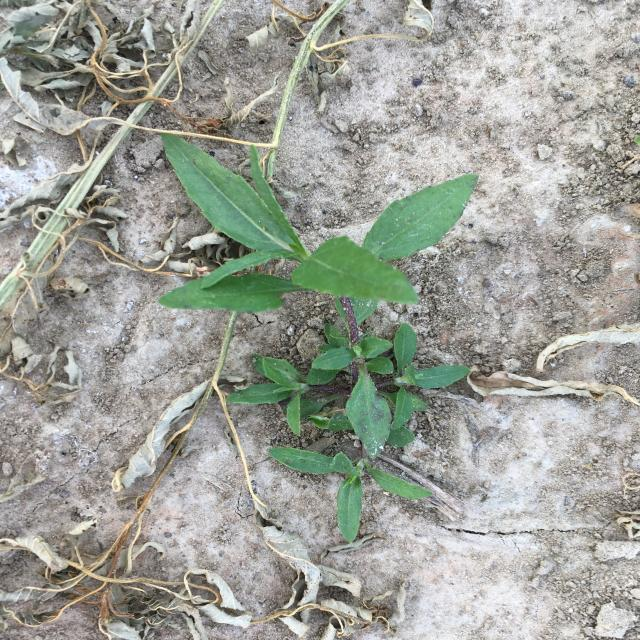Eclipta: (156, 134, 479, 542)
